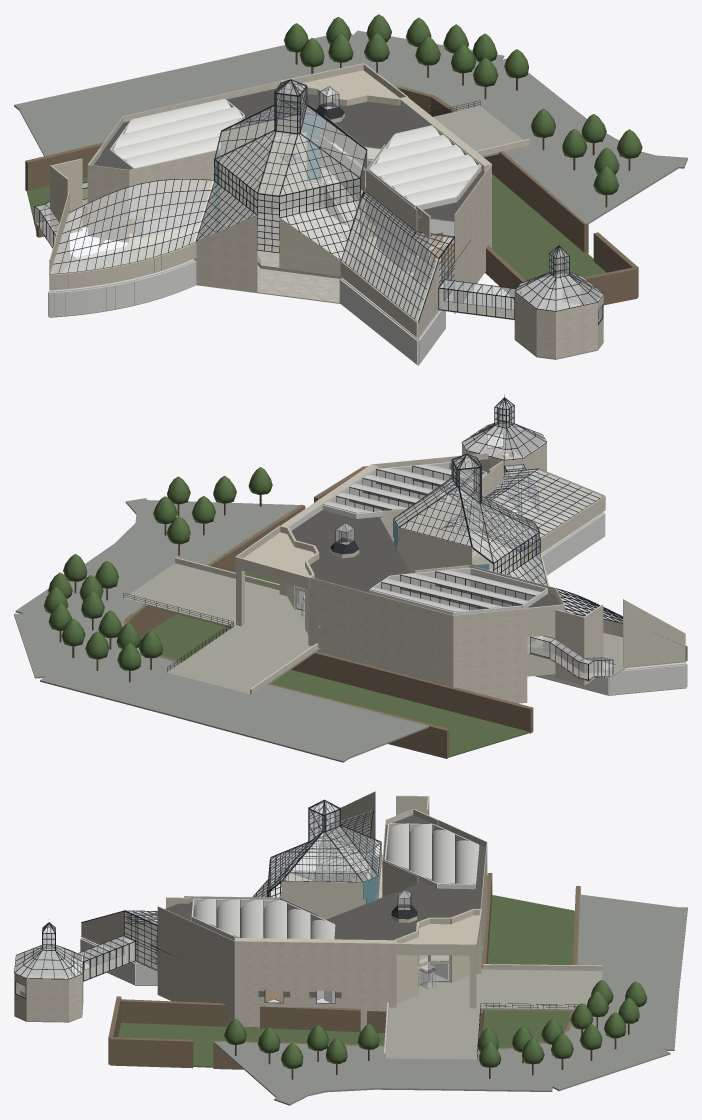
File: MUDAM_R50_GRAND_HALL_ARMATUR_v001_preview.glb
The picture shows the model from 3 angles, top to bottom: view 1: azimuth 30°, elevation 25°; view 2: azimuth 150°, elevation 25°; view 3: azimuth 270°, elevation 25°; orthographic projection. The views are drawn at different scales.
Visible parts, largest first — view 1: R38_PARK_APPROACH_GROUND, R35_MOAT_GROUND, P05_MAIN_ATRIUM_BASE_3, P05_MAIN_ROOF_DECK, R28_W_HIGH_GALLERY_WALL, R07_STAIRWELL_STONE_NORTH, P05_FRONT_0, P05_FLOOR_L00_GH, P05_GALLERY_HALL_WEST2, R35_WALL_49911001_07_2, P05_FLOOR_L00_EAST_GARDEN, R28_E_HIGH_GALLERY_WALL (+57 smaller); view 2: R38_PARK_APPROACH_GROUND, R34_APPROACH_CONTINUOUS_DECK, P05_FRONT_9, R35_MOAT_GROUND, P05_MAIN_ROOF_DECK, P05_FRONT_10, R35_WALL_51946353_03_0, P05_WEST_END, R35_WALL_51946353_04_0, R14_INNER_WALL_B, R29_W_BOUNDARY_32, R11_STONE_END (+27 smaller); view 3: R38_PARK_APPROACH_GROUND, R34_APPROACH_CONTINUOUS_DECK, R35_MOAT_GROUND, R27_CONTINUOUS_HEAD, P05_FRONT_0, P05_MAIN_ROOF_DECK, R35_WALL_51946353_00_0, R35_WALL_453755312_00_0, R17_WALL_6, P06_HIGH_EAVE_UPSTAND_5, P07_CANOPY_SLAB_ENVELOPE, P05_WEST_END (+27 smaller).
Part boxes in pixels (x1,y1,x2,y2): R38_PARK_APPROACH_GROUND: [14, 30, 687, 223]; R35_MOAT_GROUND: [26, 174, 606, 280]; P05_MAIN_ATRIUM_BASE_3: [220, 132, 306, 222]; P05_MAIN_ROOF_DECK: [88, 88, 485, 222]; R28_W_HIGH_GALLERY_WALL: [129, 149, 223, 218]; R07_STAIRWELL_STONE_NORTH: [193, 215, 257, 292]; P05_FRONT_0: [454, 164, 491, 313]; P05_FLOOR_L00_GH: [216, 205, 368, 276]; P05_GALLERY_HALL_WEST2: [87, 164, 129, 241]; R35_WALL_49911001_07_2: [499, 151, 588, 253]; P05_FLOOR_L00_EAST_GARDEN: [342, 248, 452, 338]; R28_E_HIGH_GALLERY_WALL: [366, 169, 417, 257]; R38_PARK_APPROACH_GROUND: [14, 498, 429, 762]; R34_APPROACH_CONTINUOUS_DECK: [124, 563, 318, 693]; P05_FRONT_9: [309, 577, 453, 687]; R35_MOAT_GROUND: [140, 571, 529, 757]; P05_MAIN_ROOF_DECK: [291, 459, 564, 622]; P05_FRONT_10: [453, 608, 527, 703]; R35_WALL_51946353_03_0: [317, 652, 458, 712]; P05_WEST_END: [623, 599, 685, 667]; R35_WALL_51946353_04_0: [456, 688, 533, 733]; R14_INNER_WALL_B: [555, 609, 585, 685]; R29_W_BOUNDARY_32: [609, 664, 686, 695]; R11_STONE_END: [538, 469, 604, 516]; R38_PARK_APPROACH_GROUND: [214, 894, 687, 1105]; R34_APPROACH_CONTINUOUS_DECK: [385, 969, 602, 1059]; R35_MOAT_GROUND: [118, 895, 574, 1067]; R27_CONTINUOUS_HEAD: [234, 938, 394, 991]; P05_FRONT_0: [157, 906, 234, 1026]; P05_MAIN_ROOF_DECK: [157, 815, 486, 949]; R35_WALL_51946353_00_0: [121, 999, 386, 1033]; R35_WALL_453755312_00_0: [110, 1037, 193, 1068]; R17_WALL_6: [26, 978, 68, 1021]; P06_HIGH_EAVE_UPSTAND_5: [281, 881, 363, 899]; P07_CANOPY_SLAB_ENVELOPE: [403, 915, 479, 943]; P05_WEST_END: [334, 791, 375, 854].
Bounding box in the file's own units: 125 × 36.19 × 133.
39 materials, 7 textured.
